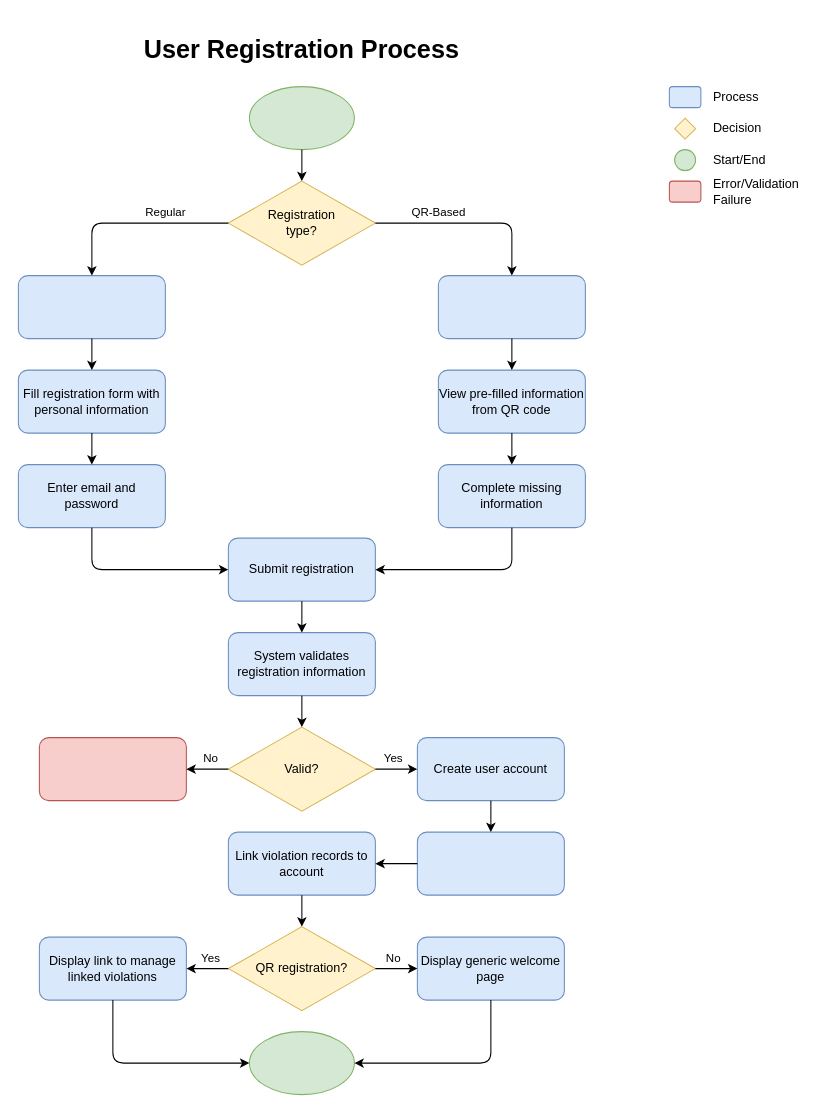
Some shapes in this 835 by 1113 pixel diagram are drawn without their labels. The centre of each missing label's shape, as x and y in pixels:
"Display error messages" goes at point (112, 769).
"End: Registration Complete" goes at point (301, 1063).
"Scan QR code from violation ticket" goes at point (511, 307).
"Send verification email" goes at point (490, 863).
"Start" goes at point (301, 118).
"Visit registration page" goes at point (91, 307).
